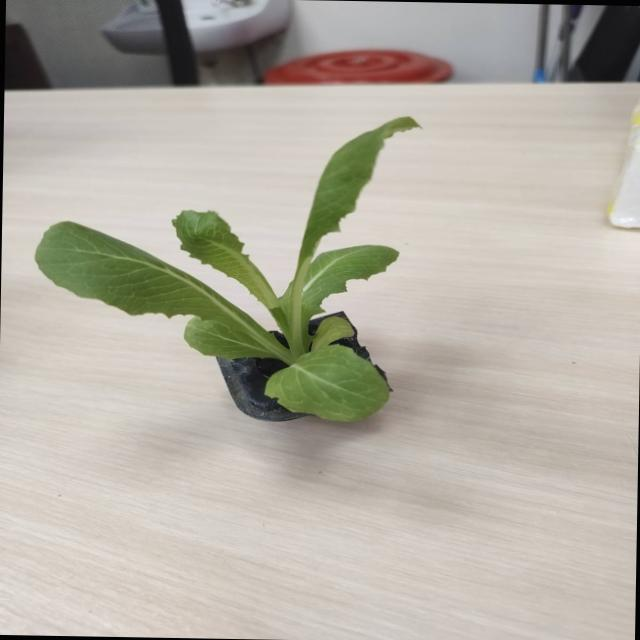Lettuce-Not-Ready-to-Harvest: (36, 117, 417, 420)
